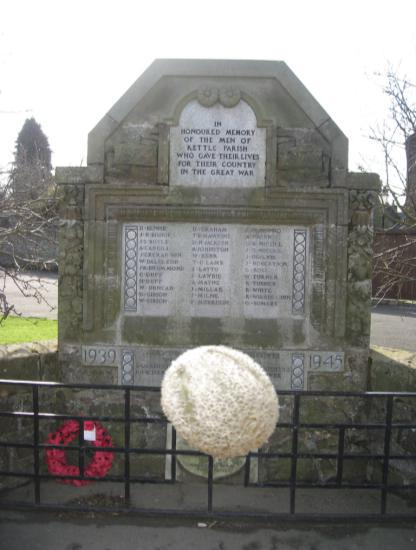Cantaloupe: (157, 339, 284, 466)
